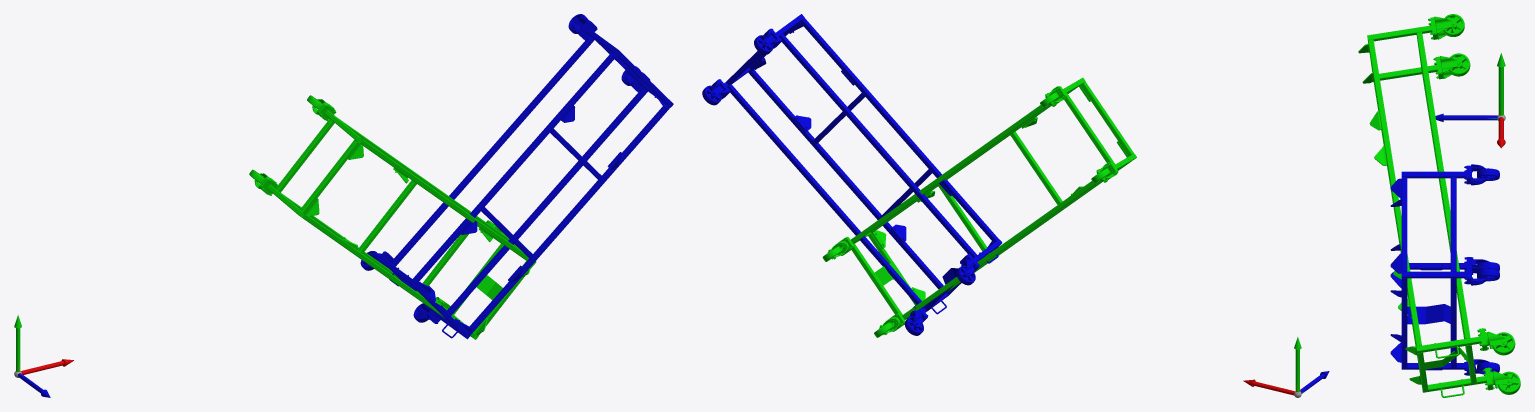
Rendered from combined_scene_sample_648.glb.
3 views of the same model, side by side, from view 1: azimuth 30°, elevation 25°; view 2: azimuth 150°, elevation 25°; view 3: azimuth 270°, elevation 25° (orthographic). The views are drawn at different scales.
Visible parts, largest first — view 1: gt, pred, frame; view 2: gt, pred, frame; view 3: pred, gt, frame.
Boxes of the visible parts, bbox=[...] form: gt: bbox=[360, 14, 673, 339]; pred: bbox=[249, 95, 536, 339]; frame: bbox=[14, 315, 73, 397]; gt: bbox=[702, 14, 1002, 335]; pred: bbox=[822, 77, 1136, 337]; frame: bbox=[1243, 337, 1329, 397]; pred: bbox=[1358, 14, 1520, 397]; gt: bbox=[1390, 164, 1499, 375]; frame: bbox=[1435, 53, 1505, 148].
Bounding box in the file's own units: 5.48 × 2.31 × 1.12.
